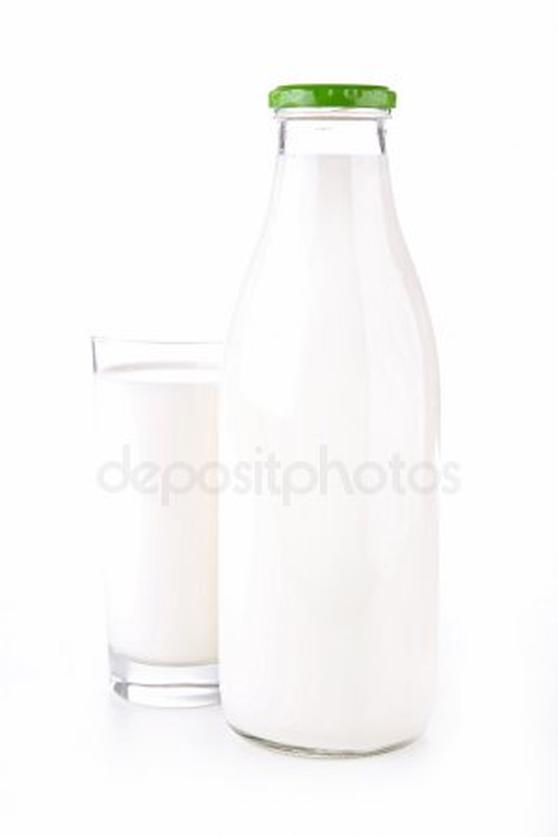milk: (219, 77, 446, 752)
